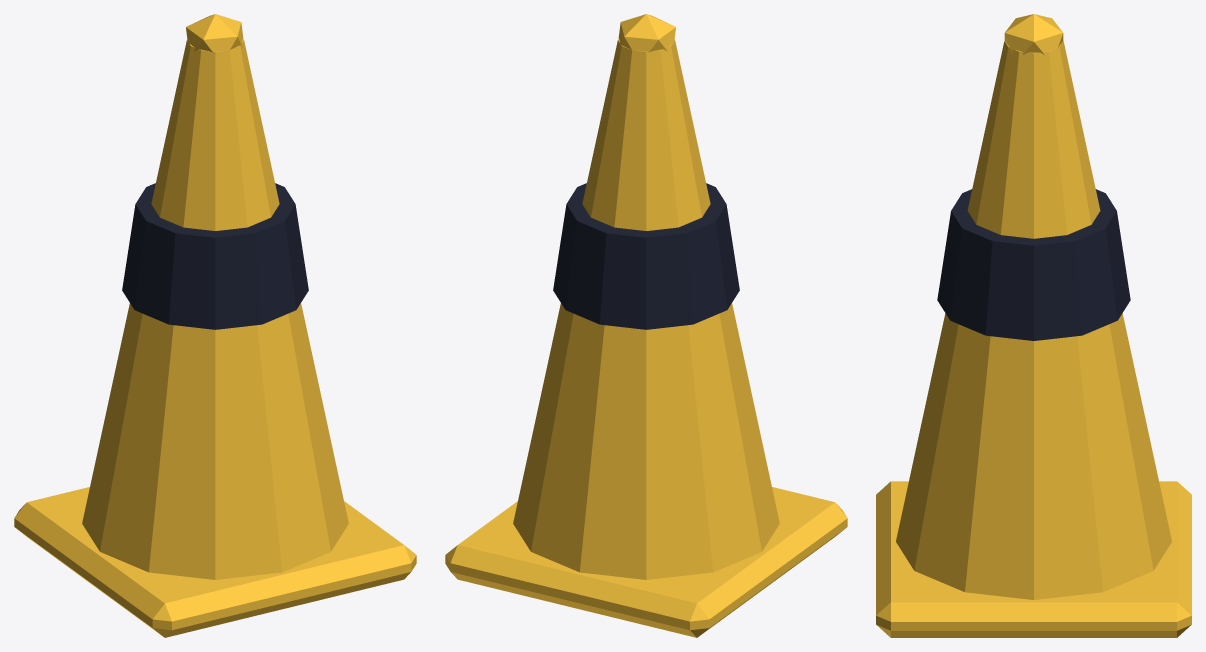
File: sm_env_depot_wet_floor_cone.glb
3 renders of one model, left to right at view 1: azimuth 30°, elevation 25°; view 2: azimuth 150°, elevation 25°; view 3: azimuth 270°, elevation 25°, orthographic. The views are drawn at different scales.
Parts seen in each view (by area): view 1: Cone, ConeBase, ConeBand, ConeTip; view 2: Cone, ConeBase, ConeBand, ConeTip; view 3: Cone, ConeBase, ConeBand, ConeTip.
Boxes of the visible parts, x1,y1,x2,y2 form: Cone: (82,38,348,579); ConeBase: (14,487,416,637); ConeBand: (122,183,308,329); ConeTip: (186,14,243,52); Cone: (513,38,779,579); ConeBase: (445,487,847,637); ConeBand: (553,183,739,329); ConeTip: (618,14,675,52); Cone: (896,41,1171,599); ConeBase: (876,481,1191,637); ConeBand: (937,189,1130,340); ConeTip: (1004,14,1063,54).
Size of the model in its own units: 0.32 by 0.63 by 0.32.
